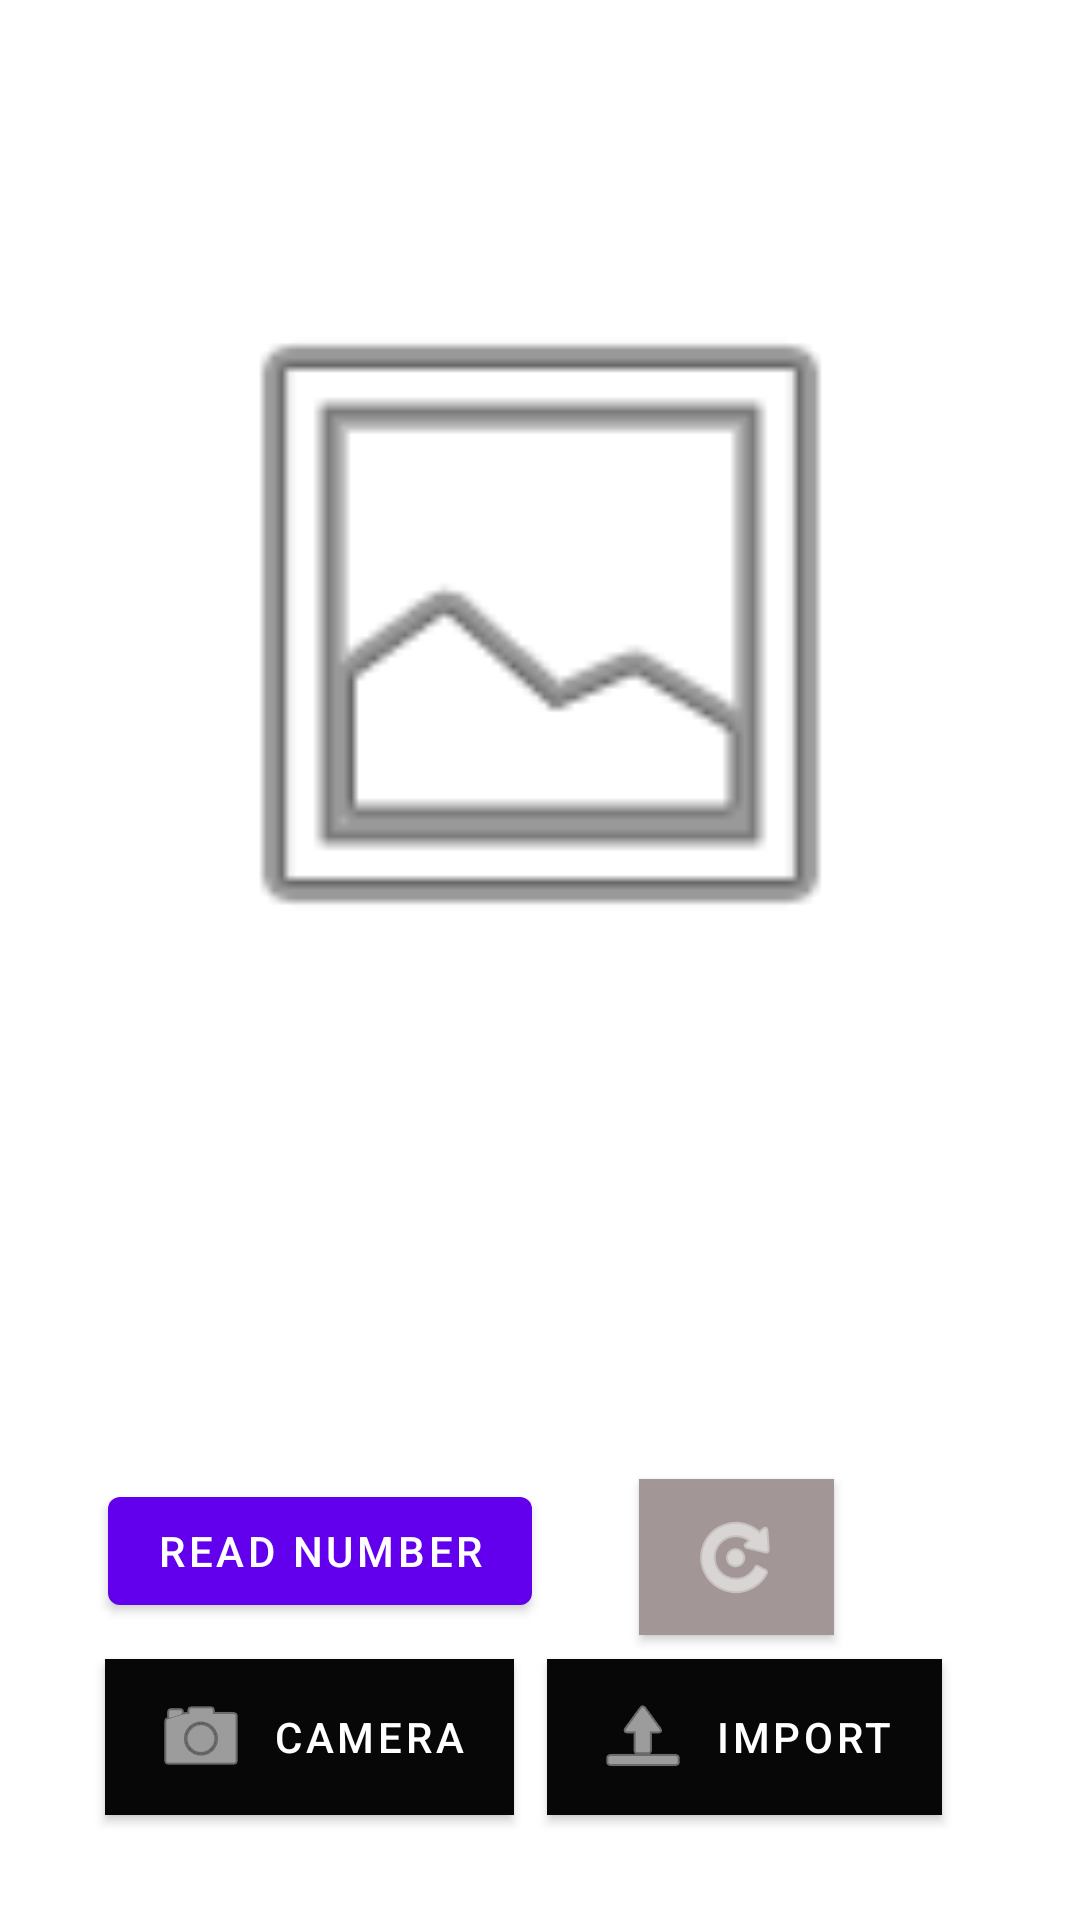

Icon click points for this 1080px x 1920px phone screenshot, format (x=x, y=y):
rotate: (x=736, y=1557)
